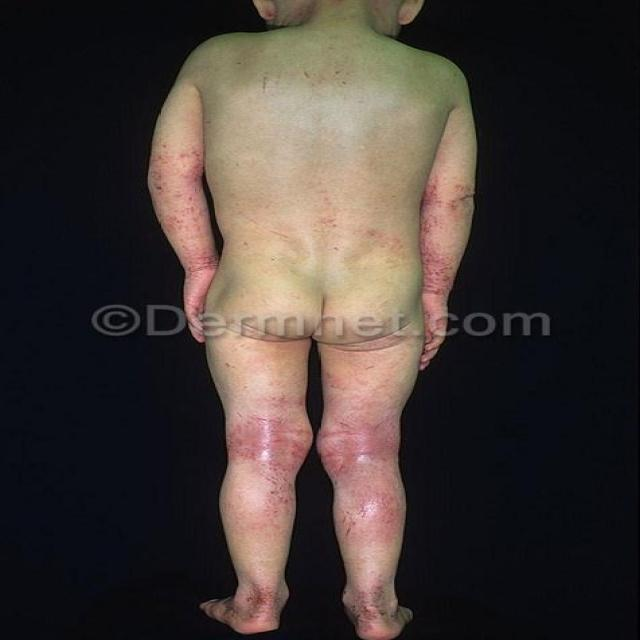Eczema: (310, 410, 419, 552), (222, 399, 304, 566), (156, 130, 222, 300), (417, 172, 471, 301)
